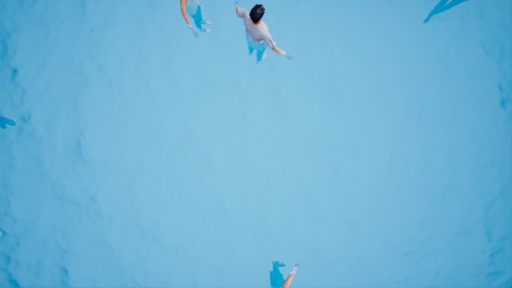person: (234, 1, 288, 67), (257, 249, 305, 288), (174, 1, 224, 38)
